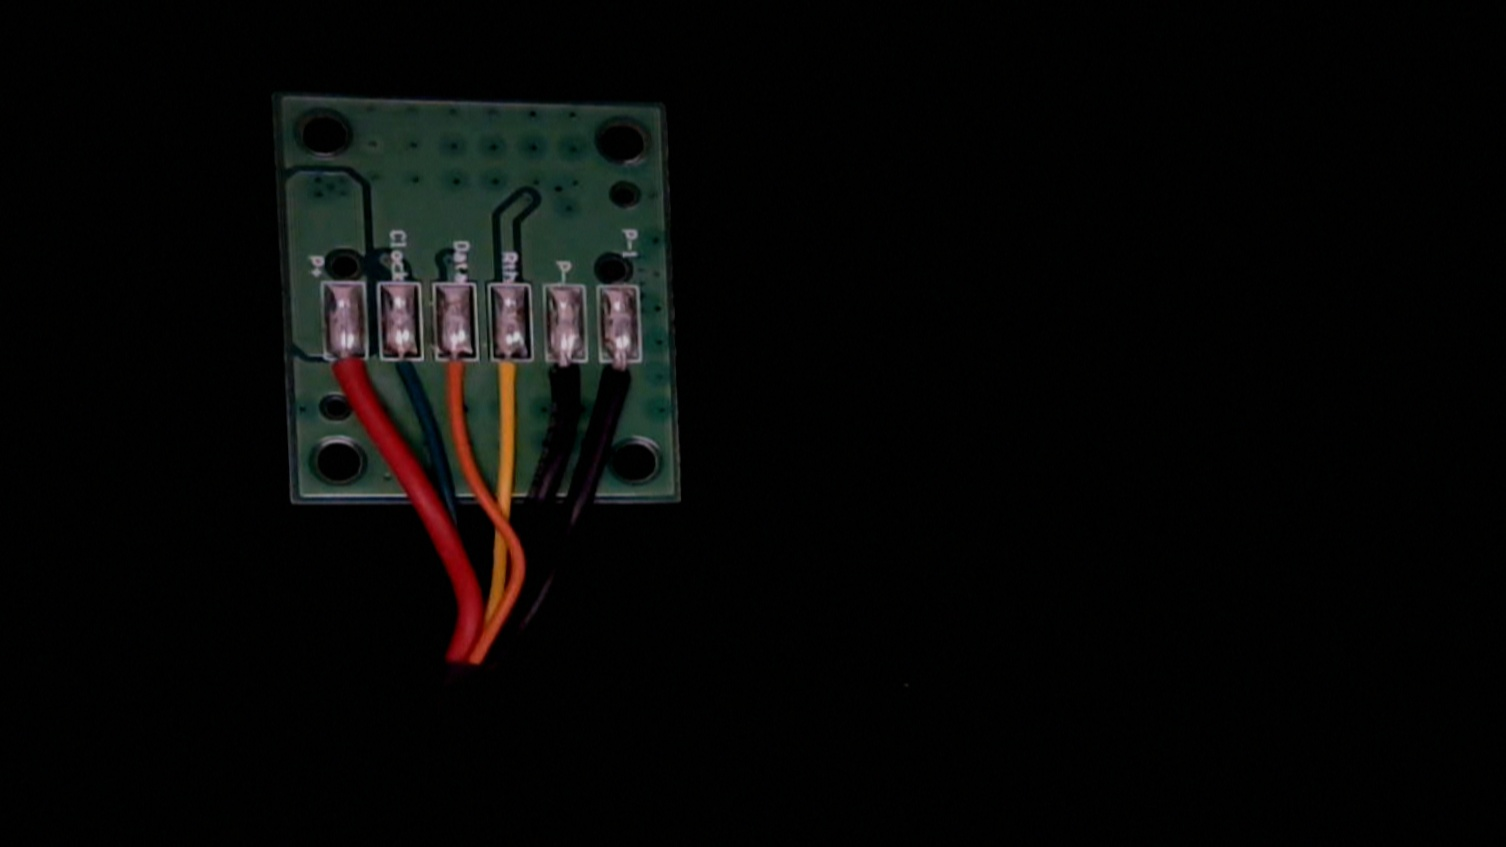Black: (542, 341, 589, 423)
Black1: (600, 344, 650, 425)
Green: (378, 338, 428, 413)
Orange: (433, 338, 480, 414)
Red: (321, 337, 371, 422)
Yellow: (491, 340, 533, 420)
